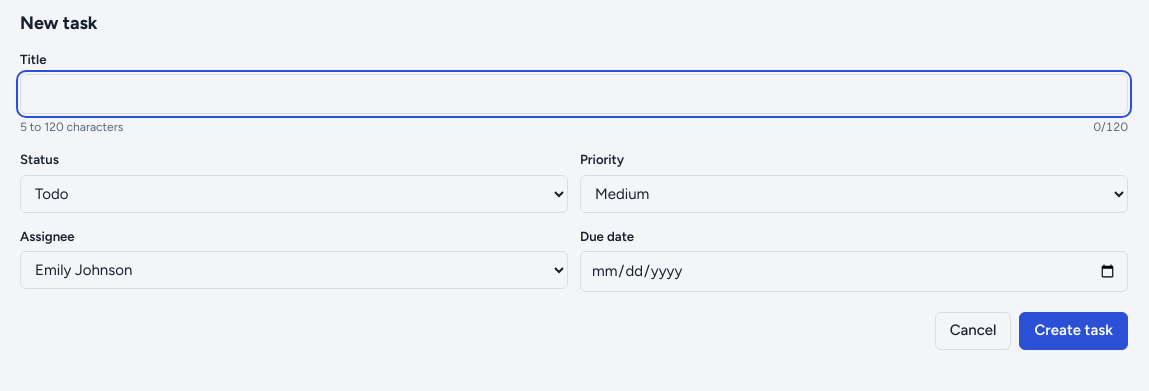
Scenario: form validation › rejects fewer than 5 characters, ignoring surrounding spaces
The image size is (1149, 391).
In the field labelled "Title": x=574, y=94 left=20, top=74, right=1128, bottom=114, type "   abc   "
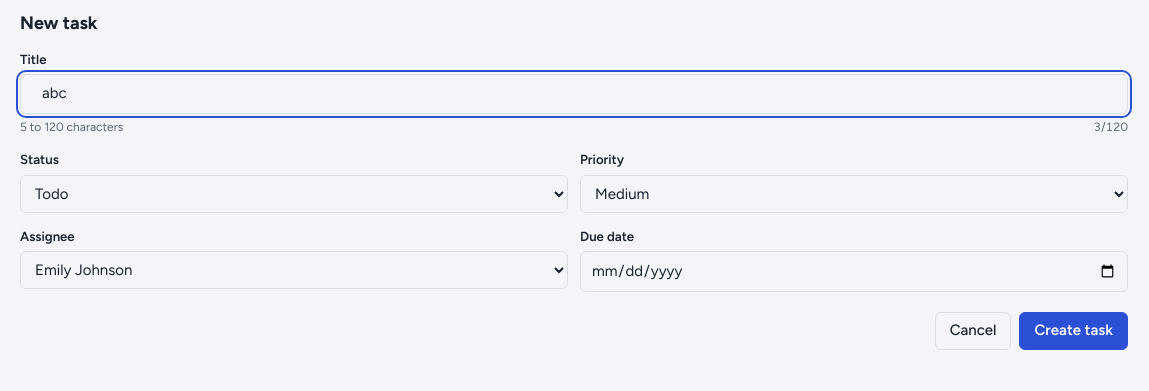
Click the button "Create task": x=1074, y=331 left=1020, top=312, right=1128, bottom=350
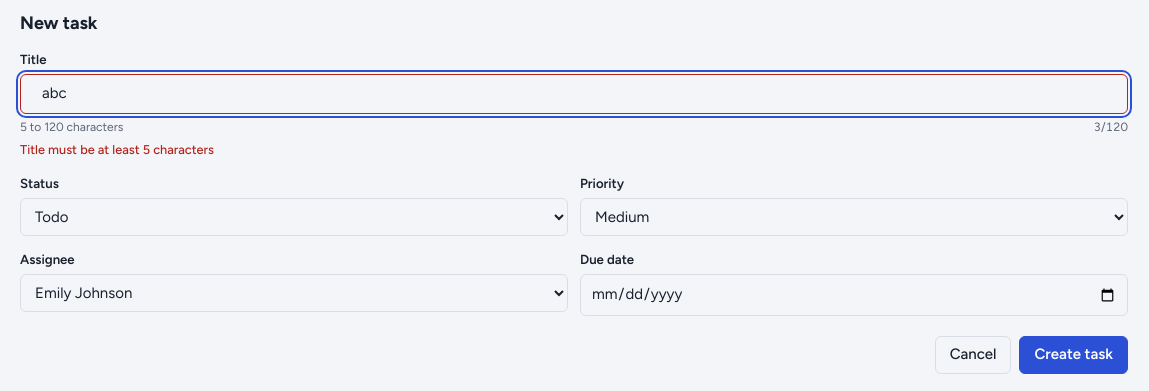
Now the text "Title must be at least 5 characters" is shown, box left=20, top=142, right=214, bottom=157
